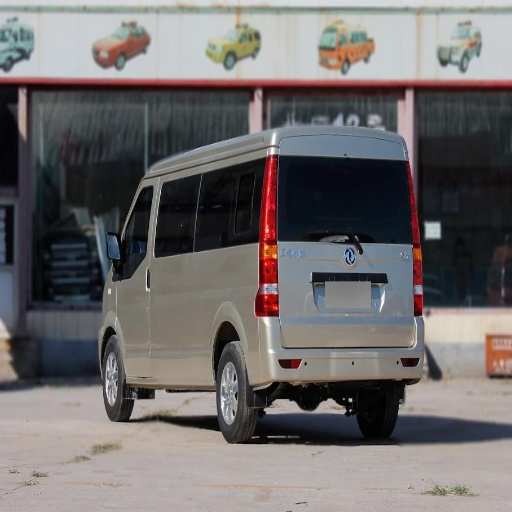back_bumper: (254, 317, 424, 383)
back_left_light: (255, 164, 278, 316)
trunk: (170, 216, 412, 369)
